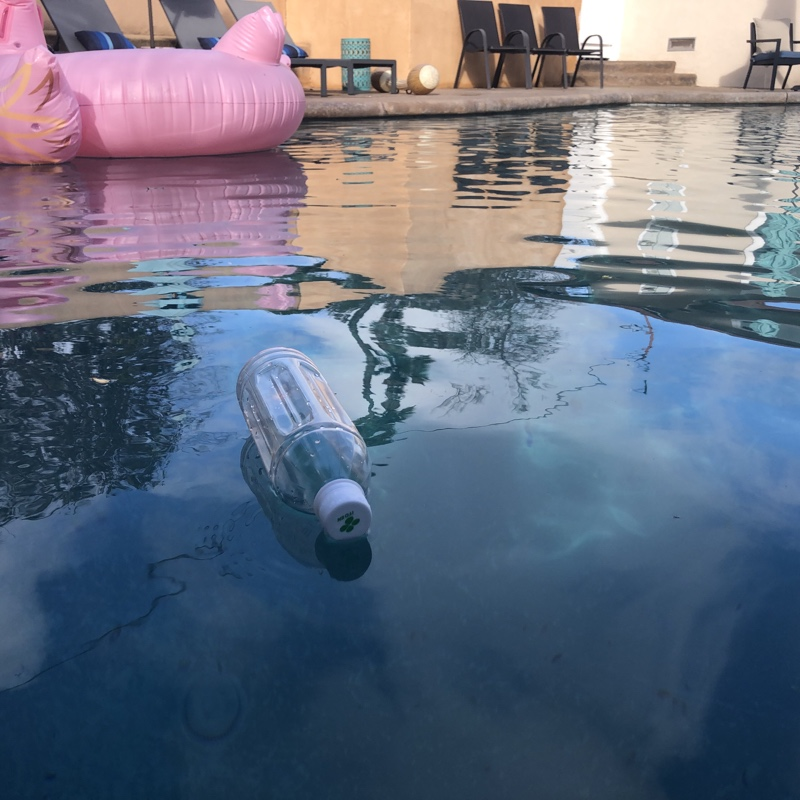Plastic Bottle: (233, 344, 376, 553)
